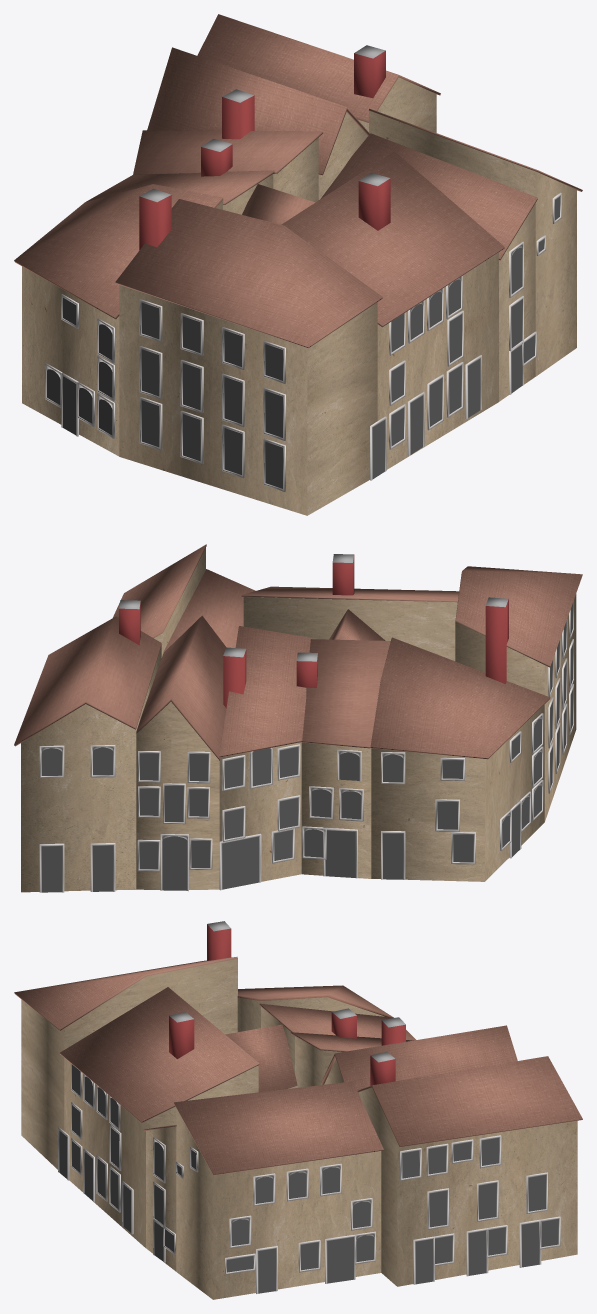
File: ilot29Combine.fbx
The picture shows the model from 3 angles, top to bottom: view 1: azimuth 30°, elevation 25°; view 2: azimuth 150°, elevation 25°; view 3: azimuth 270°, elevation 25°; orthographic projection. The views are drawn at different scales.
Parts seen in each view (by area): view 1: _ILOT29BAT5, _ILOT29BAT6, _ILOT29BAT4, _ILOT29BAT8, _ILOT29BAT7, _ILOT29BAT2, _ILOT29BAT1, _ILOT29BAT3, _ILOT29BAT10, _ILOT29BAT9; view 2: _ILOT29BAT4, _ILOT29BAT2, _ILOT29BAT1, _ILOT29BAT3, _ILOT29BAT10, _ILOT29BAT5, _ILOT29BAT6, _ILOT29BAT7, _ILOT29BAT8, _ILOT29BAT9; view 3: _ILOT29BAT2, _ILOT29BAT7, _ILOT29BAT6, _ILOT29BAT5, _ILOT29BAT1, _ILOT29BAT8, _ILOT29BAT4, _ILOT29BAT10, _ILOT29BAT3, _ILOT29BAT9.
Part boxes in pixels (bbox=[...]): _ILOT29BAT5: bbox=[115, 188, 382, 515]; _ILOT29BAT6: bbox=[281, 151, 504, 480]; _ILOT29BAT4: bbox=[14, 184, 223, 456]; _ILOT29BAT8: bbox=[320, 133, 545, 401]; _ILOT29BAT7: bbox=[369, 108, 582, 376]; _ILOT29BAT2: bbox=[197, 14, 440, 132]; _ILOT29BAT1: bbox=[147, 47, 369, 199]; _ILOT29BAT3: bbox=[133, 89, 322, 202]; _ILOT29BAT10: bbox=[86, 138, 274, 214]; _ILOT29BAT9: bbox=[242, 184, 315, 224]; _ILOT29BAT4: bbox=[370, 637, 550, 881]; _ILOT29BAT2: bbox=[14, 600, 161, 892]; _ILOT29BAT1: bbox=[136, 615, 226, 891]; _ILOT29BAT3: bbox=[219, 626, 311, 890]; _ILOT29BAT10: bbox=[296, 639, 390, 878]; _ILOT29BAT5: bbox=[455, 566, 582, 821]; _ILOT29BAT6: bbox=[241, 554, 459, 660]; _ILOT29BAT7: bbox=[113, 544, 206, 657]; _ILOT29BAT8: bbox=[163, 569, 255, 652]; _ILOT29BAT9: bbox=[329, 609, 385, 640]; _ILOT29BAT2: bbox=[357, 1052, 582, 1286]; _ILOT29BAT7: bbox=[174, 1081, 383, 1299]; _ILOT29BAT6: bbox=[58, 987, 259, 1247]; _ILOT29BAT5: bbox=[14, 921, 237, 1169]; _ILOT29BAT1: bbox=[321, 1025, 517, 1090]; _ILOT29BAT8: bbox=[143, 1124, 183, 1271]; _ILOT29BAT4: bbox=[237, 985, 393, 1031]; _ILOT29BAT10: bbox=[259, 1003, 415, 1073]; _ILOT29BAT3: bbox=[290, 1017, 413, 1087]; _ILOT29BAT9: bbox=[225, 1024, 297, 1092].
Size of the model in its own units: 4.91 by 2.41 by 6.02.
